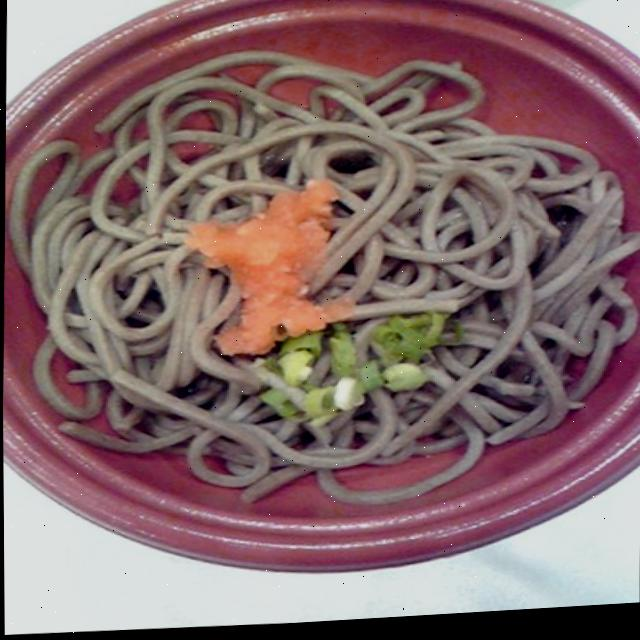面条主食: (29, 23, 608, 512)
